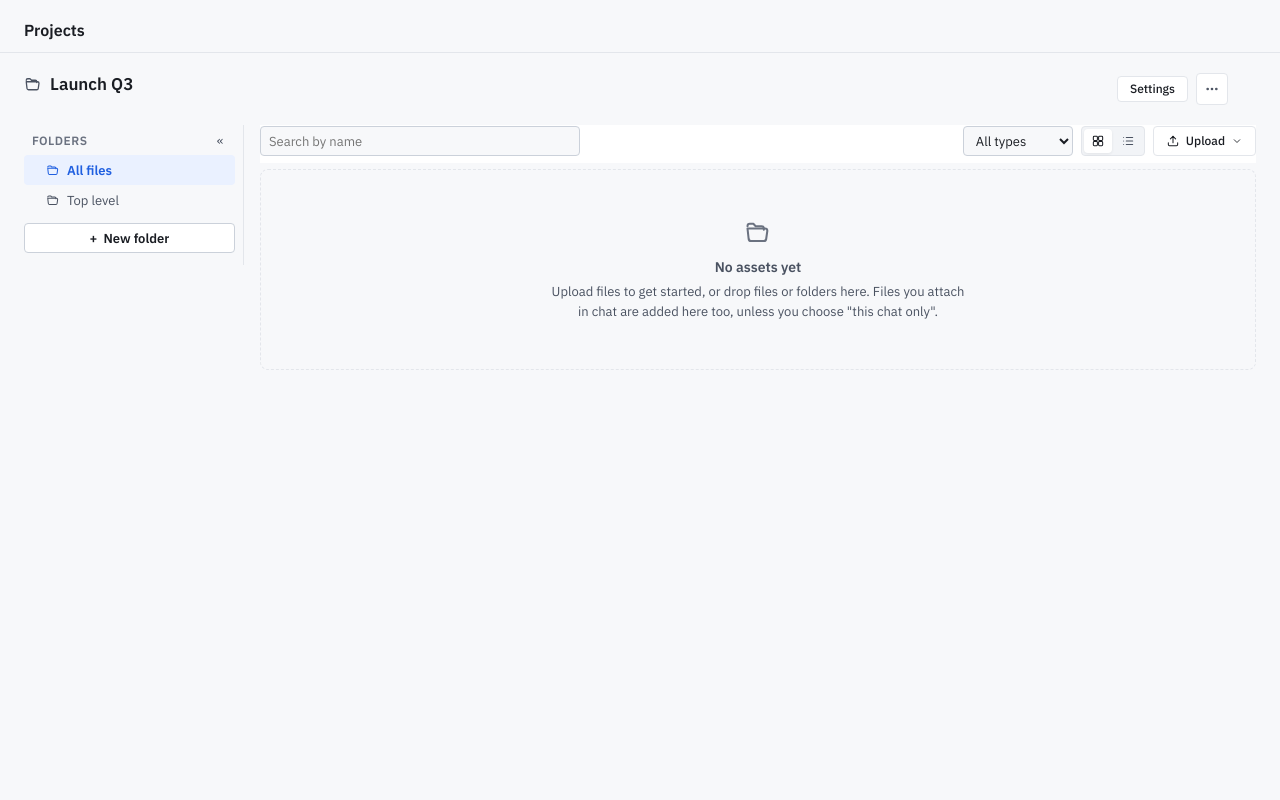
Scenario: ProjectsSurface overflow menu › Delete project needs the exact name typed, then deletes and falls back to Personal
Click the button named "Project actions": (1212, 89) [1196,73,1228,105]
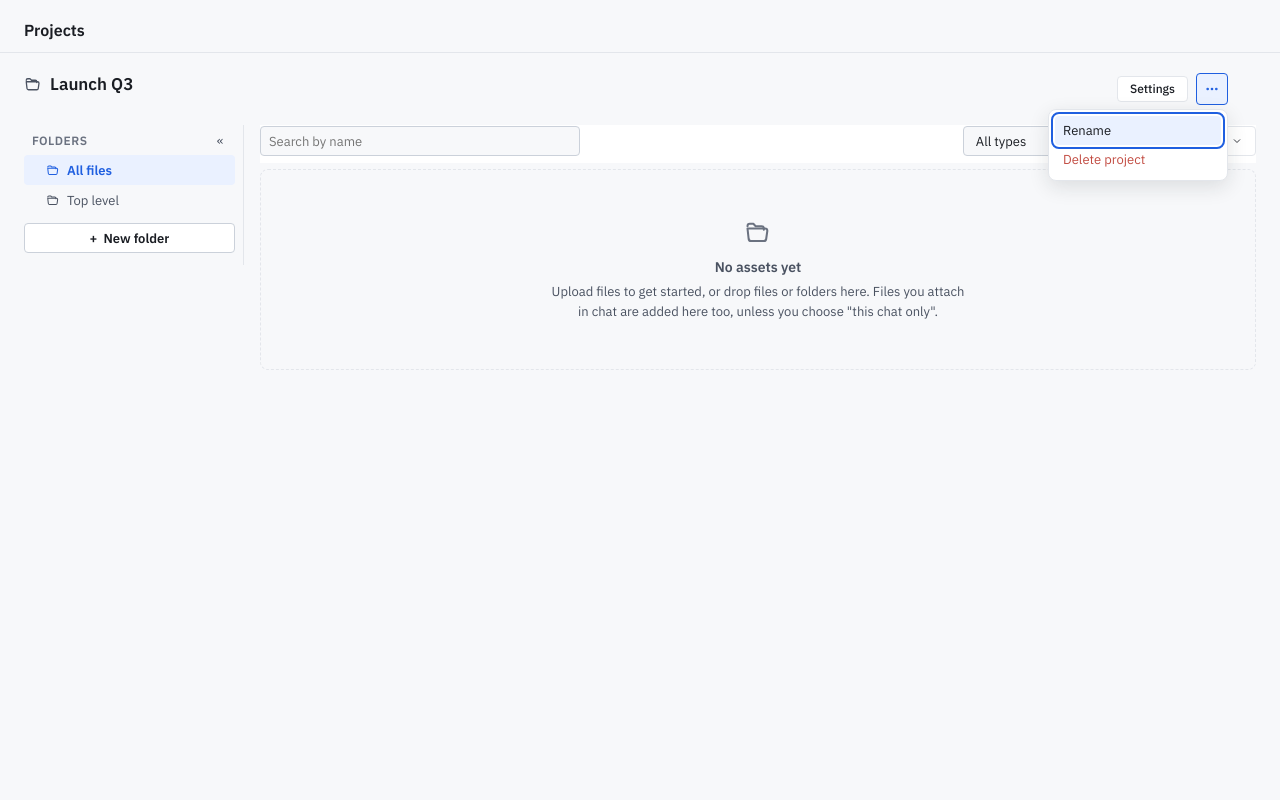
Click the menu item "Delete project": (1138, 160) [1055,145,1221,174]
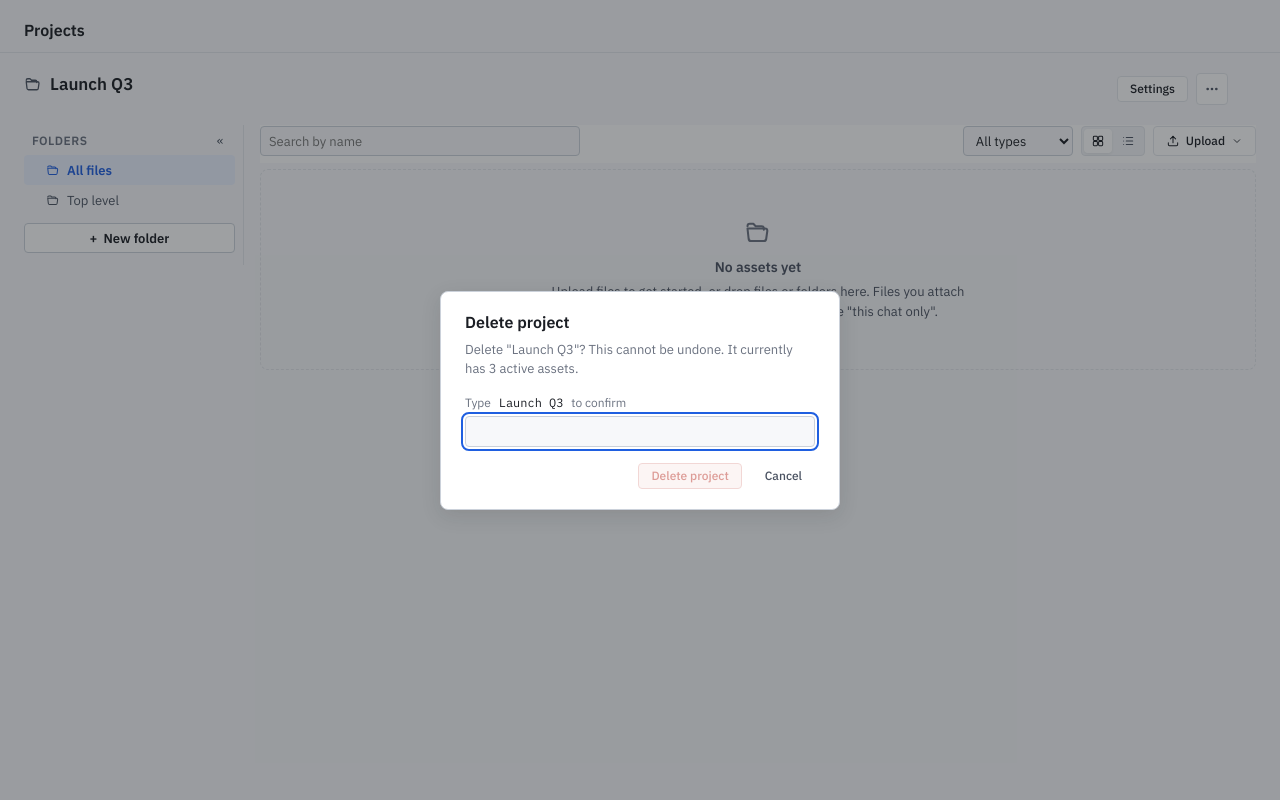
Result: the dialog shows "Delete \"Launch Q3\"? This cannot be undone. It currently has 3 active assets." at [465,340,793,377]
Result: the button "Delete project" is disabled at [638,462,742,488]
In the field labelled "Type Launch Q3 to confirm": (640, 431) [465,416,815,446], type "Launch Q3"
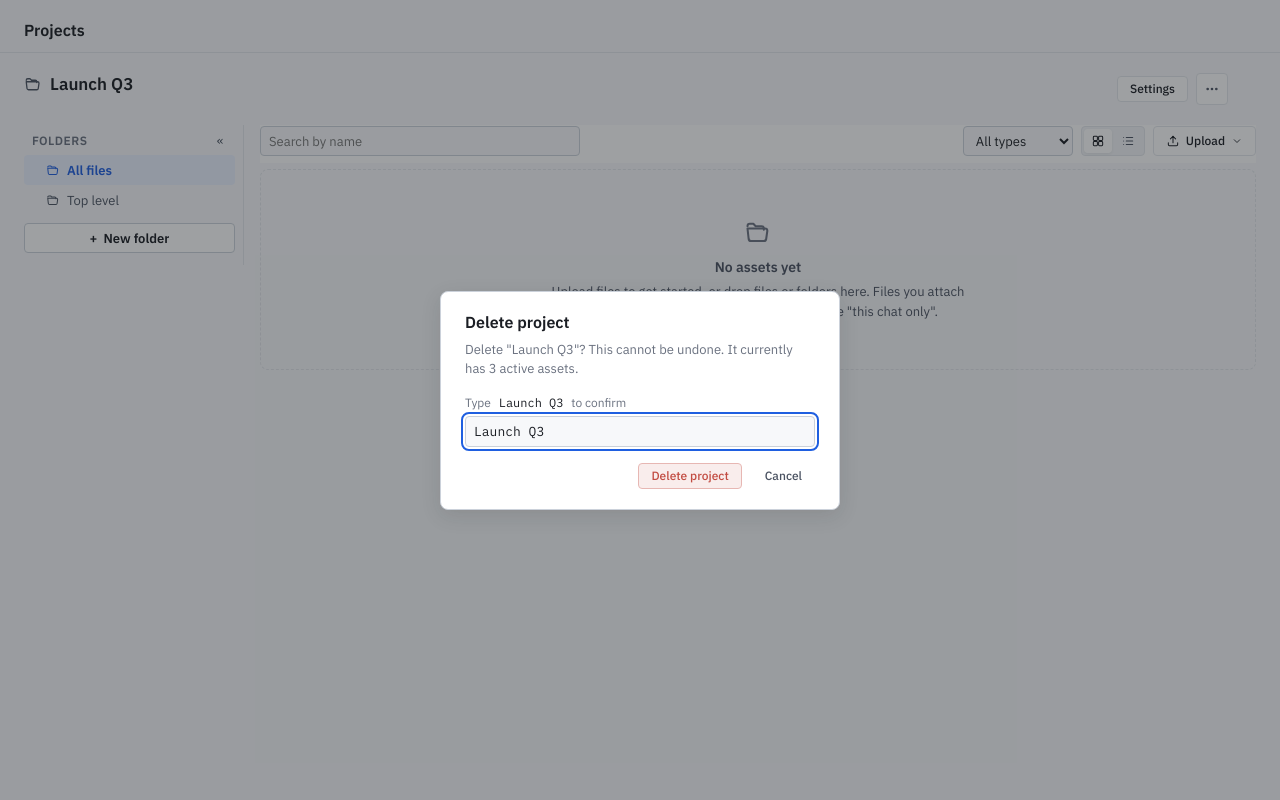
Result: the button "Delete project" is enabled
Click the button "Delete project": (690, 476) [638,462,742,488]
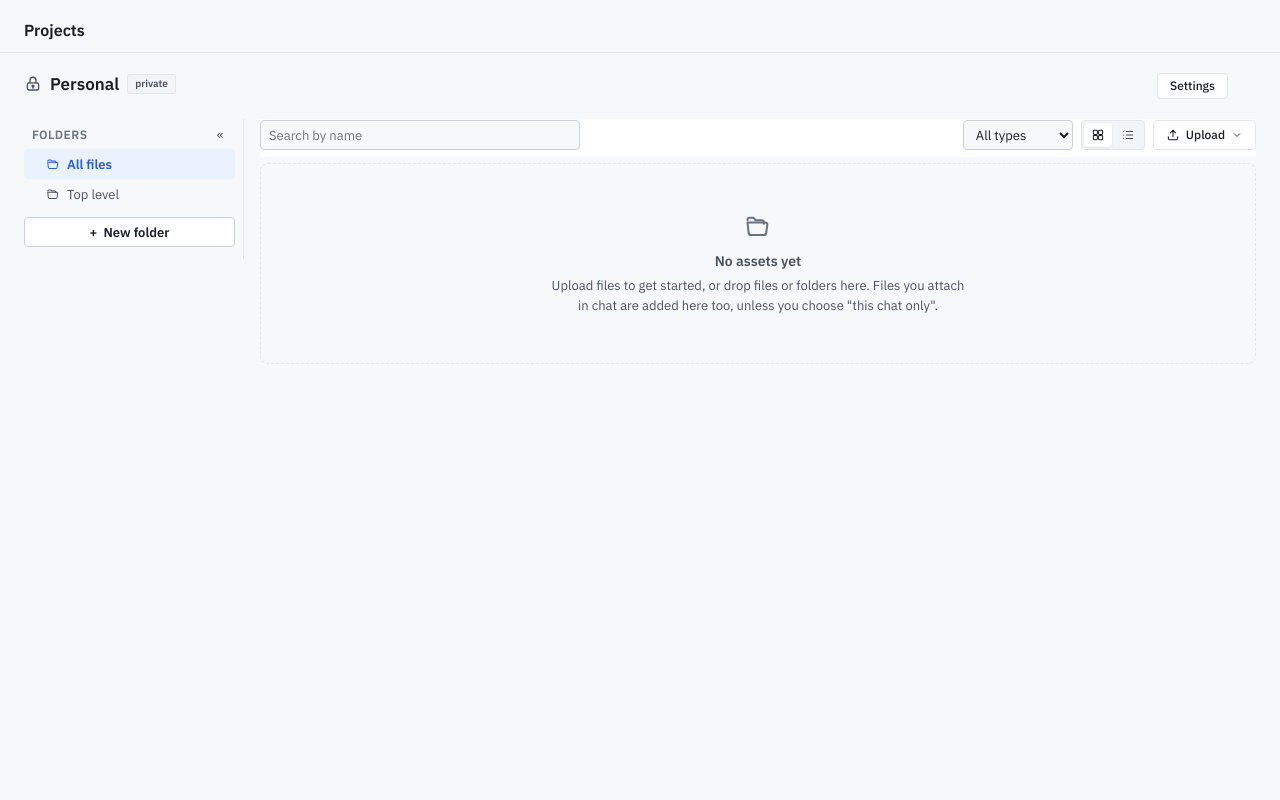
Result: the heading "Personal" is shown at [50,73,119,95]
